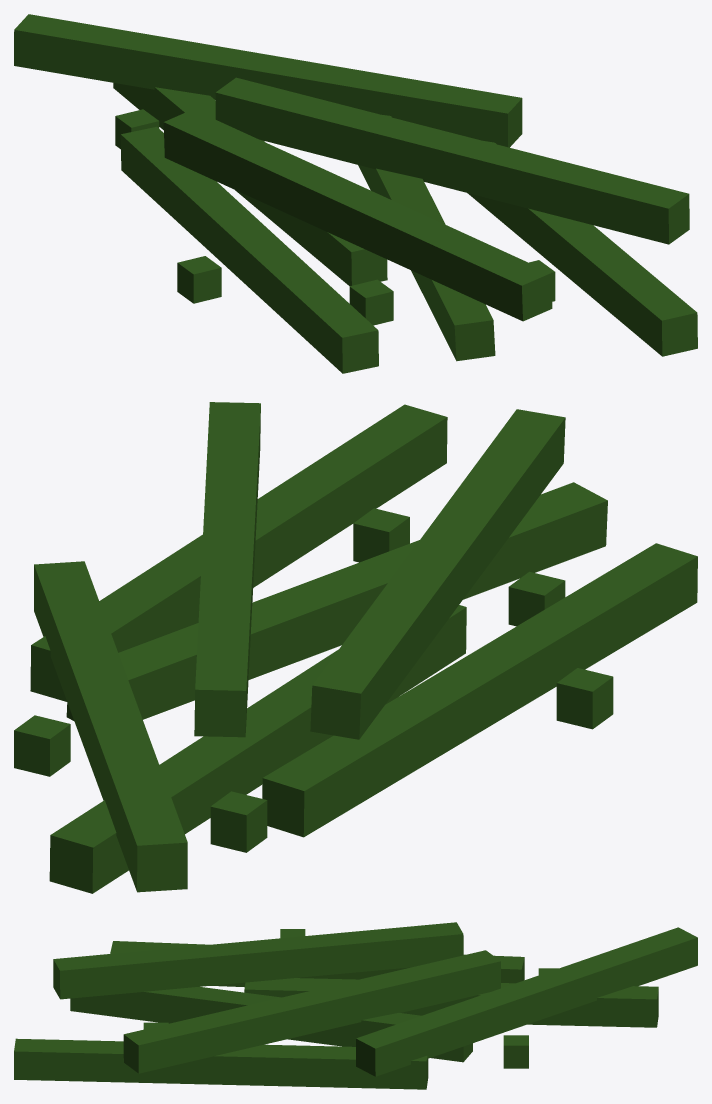
File: haricot.fbx
3 renders of one model, top to bottom at view 1: azimuth 30°, elevation 25°; view 2: azimuth 150°, elevation 25°; view 3: azimuth 270°, elevation 25°, orthographic. The views are drawn at different scales.
Parts seen in each view (by area): view 1: harico; view 2: harico; view 3: harico.
Part boxes in pixels (x1,y1,x2,y2): harico: (14,14,697,373); harico: (14,402,697,893); harico: (14,922,697,1089).
Bounding box in the file's own units: 25.23 × 47.29 × 4.95.
